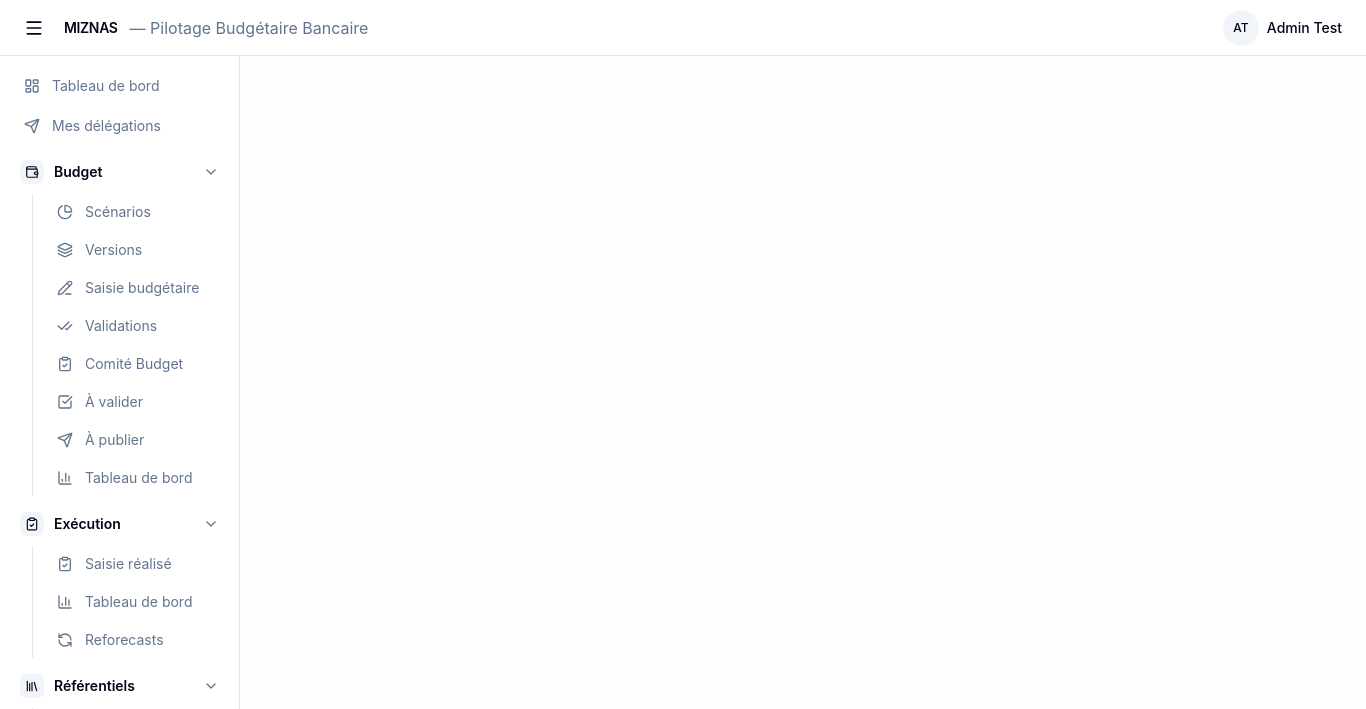
Scenario: AuthLayout — UX A.4 sidebar collapsible › clic sur le titre d'un groupe → toggle aria-expanded + persiste localStorage
What coordinates should you click on to do the following:
click the button with test id "nav-group-toggle-budget"
I would click on:
 (120, 172)
Its box is left=12, top=152, right=227, bottom=192.
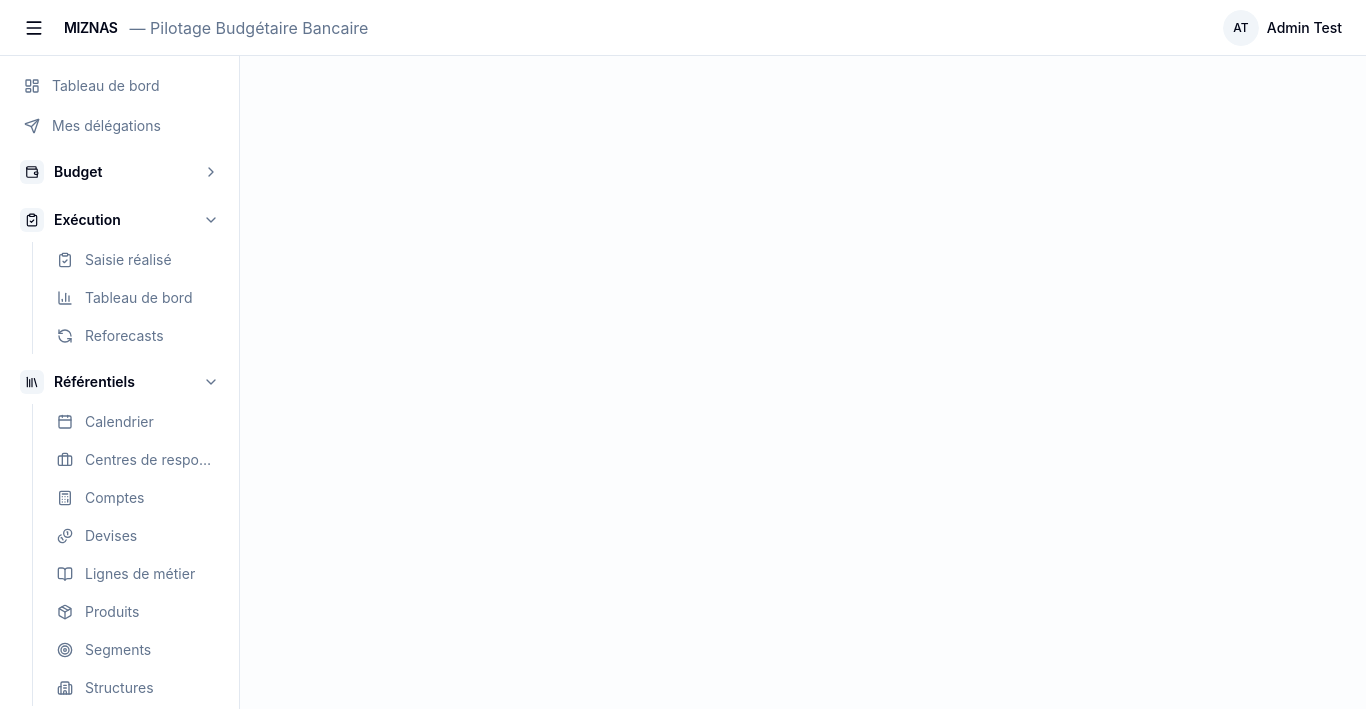
Expected: the button with test id "nav-group-toggle-budget" is collapsed, left=12, top=152, right=227, bottom=192
